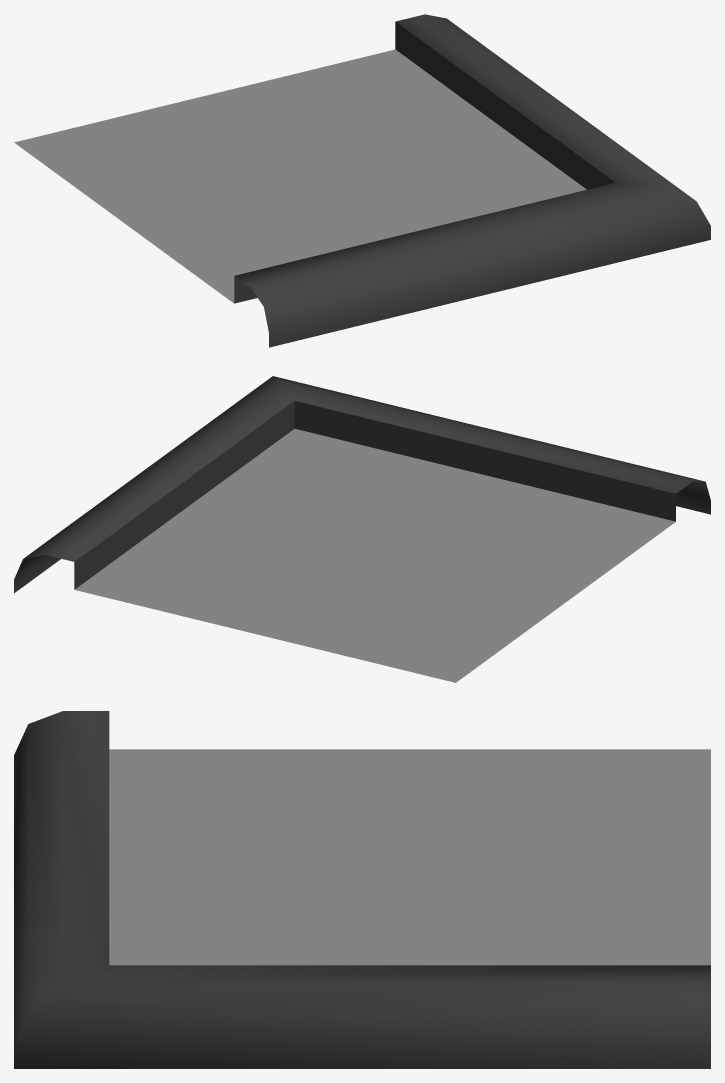
The picture shows the model from 3 angles, top to bottom: view 1: azimuth 30°, elevation 25°; view 2: azimuth 150°, elevation 25°; view 3: azimuth 270°, elevation 25°; orthographic projection. The views are drawn at different scales.
Parts seen in each view (by area): view 1: Tilepath B Corner; view 2: Tilepath B Corner; view 3: Tilepath B Corner.
Boxes of the visible parts, <box> form: Tilepath B Corner: <box>14,14,710,347</box>; Tilepath B Corner: <box>14,376,710,682</box>; Tilepath B Corner: <box>14,711,710,1068</box>.
Bounding box in the file's own units: 1 × 0.1001 × 1.
1 material, 1 textured.
